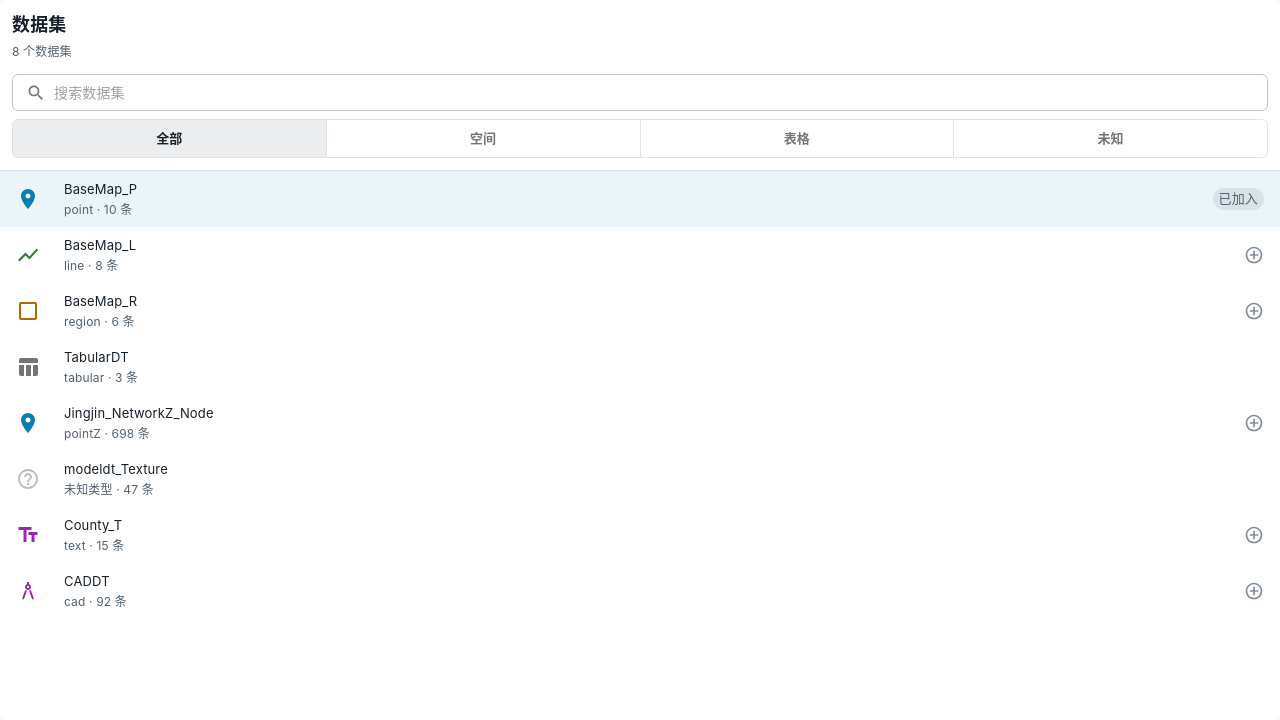
Test: DatasetExplorer › 把 Text 和 CAD 归入空间数据集而不是未知类型
Click the button "空间": (483, 138) [326,119,641,158]
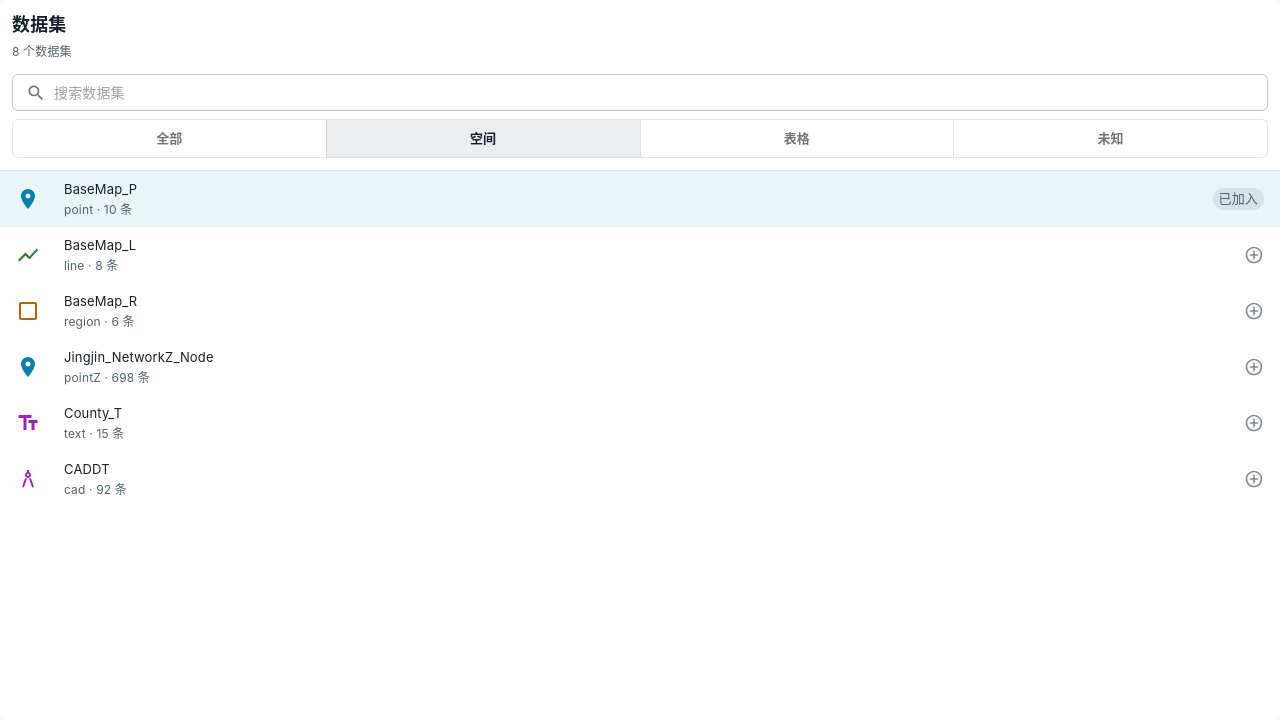
Check: the text "County_T" is shown, box [64,405,122,421]
Check: the button "modeldt_Texture" is gone
